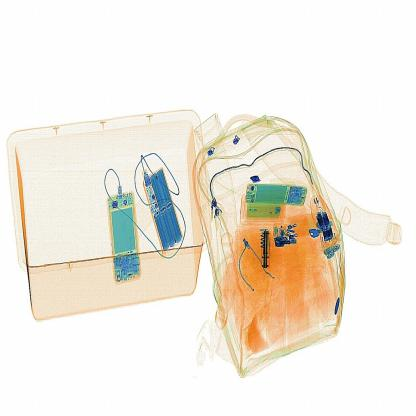scissors: (257, 227, 273, 270)
